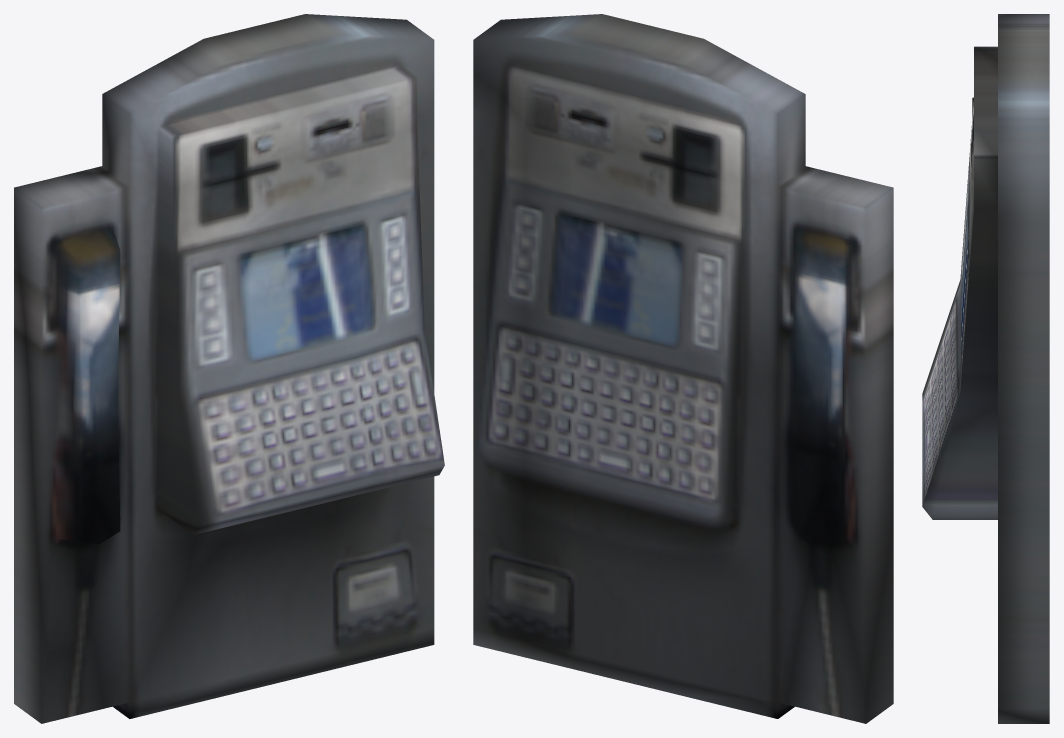
Rendered from lobby_payphone.FBX.
The picture shows the model from 3 angles, left to right: view 1: azimuth 30°, elevation 25°; view 2: azimuth 150°, elevation 25°; view 3: azimuth 270°, elevation 25°; orthographic projection. The views are drawn at different scales.
Parts seen in each view (by area): view 1: lobby_payphone; view 2: lobby_payphone; view 3: lobby_payphone.
Part boxes in pixels (bbox=[...]): lobby_payphone: bbox=[14, 14, 444, 723]; lobby_payphone: bbox=[473, 14, 893, 723]; lobby_payphone: bbox=[922, 14, 1049, 723].
Bounding box in the file's own units: 18.76 × 29.01 × 5.59.
